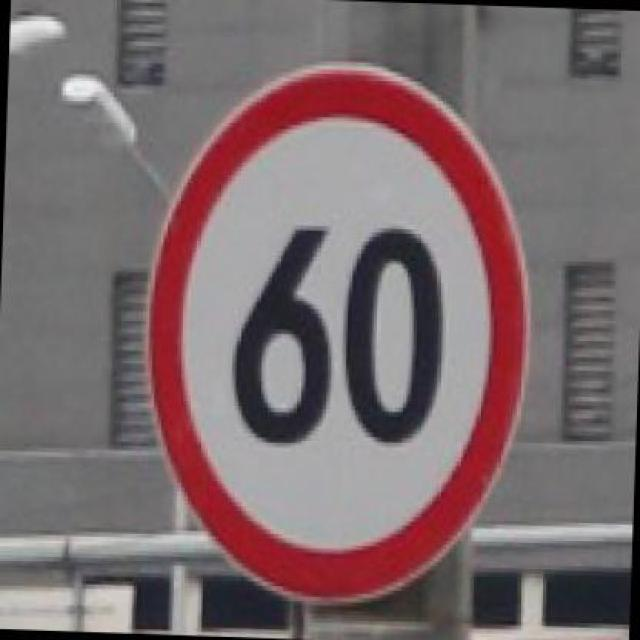Limite-60: (145, 62, 534, 606)
